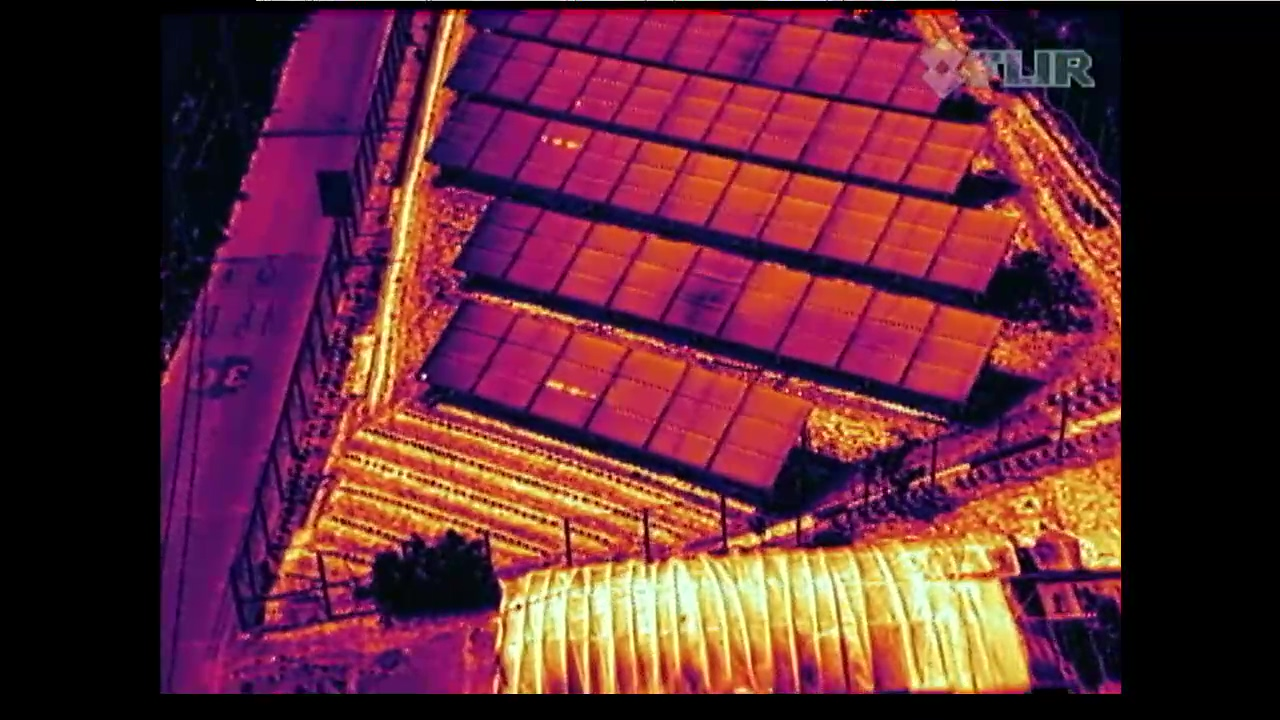hotspot: (525, 324, 622, 431), (516, 113, 593, 195), (567, 57, 643, 117)
